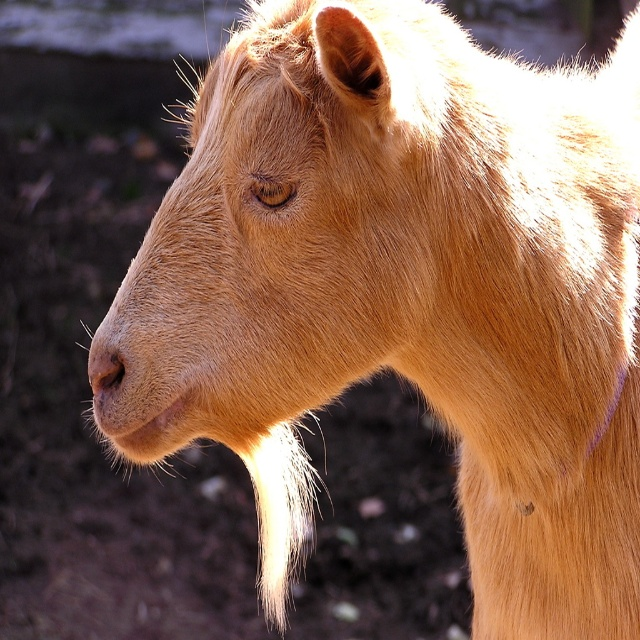Goat: (73, 0, 640, 621)
